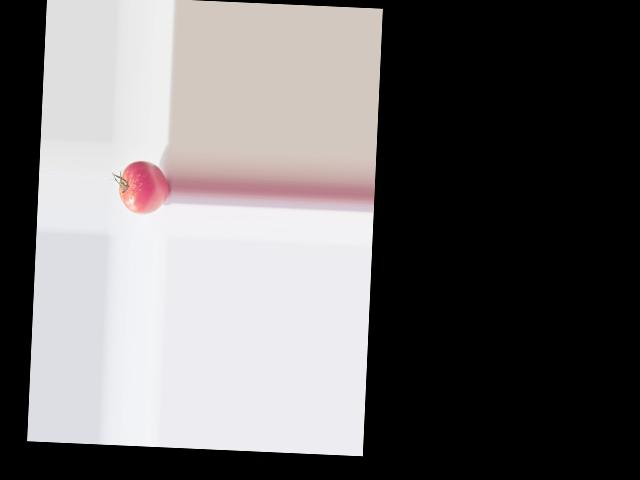tomato: (118, 160, 170, 215)
